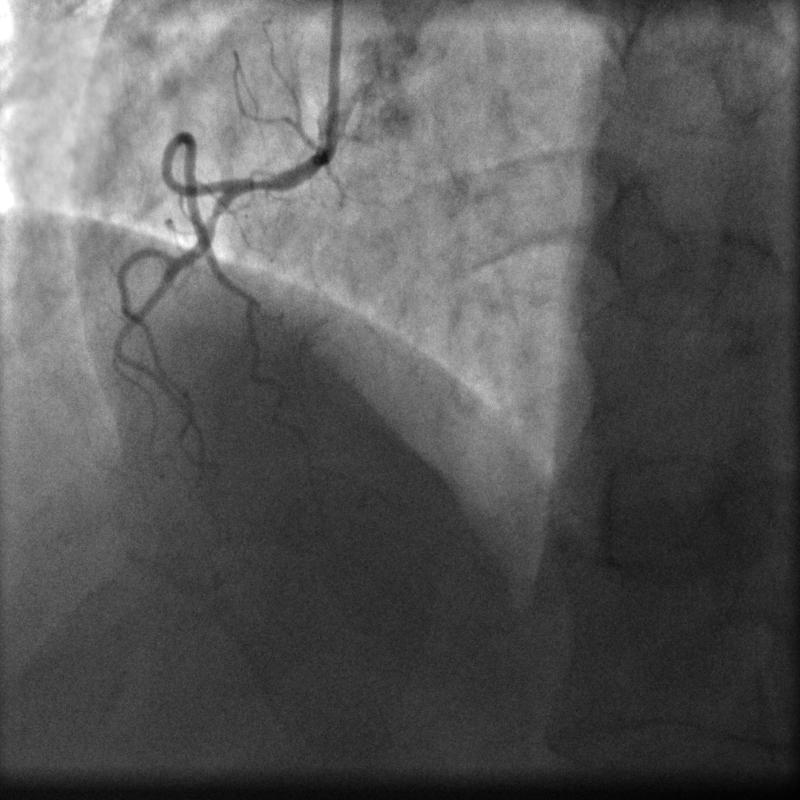Stenosis: (234, 166, 287, 202)
